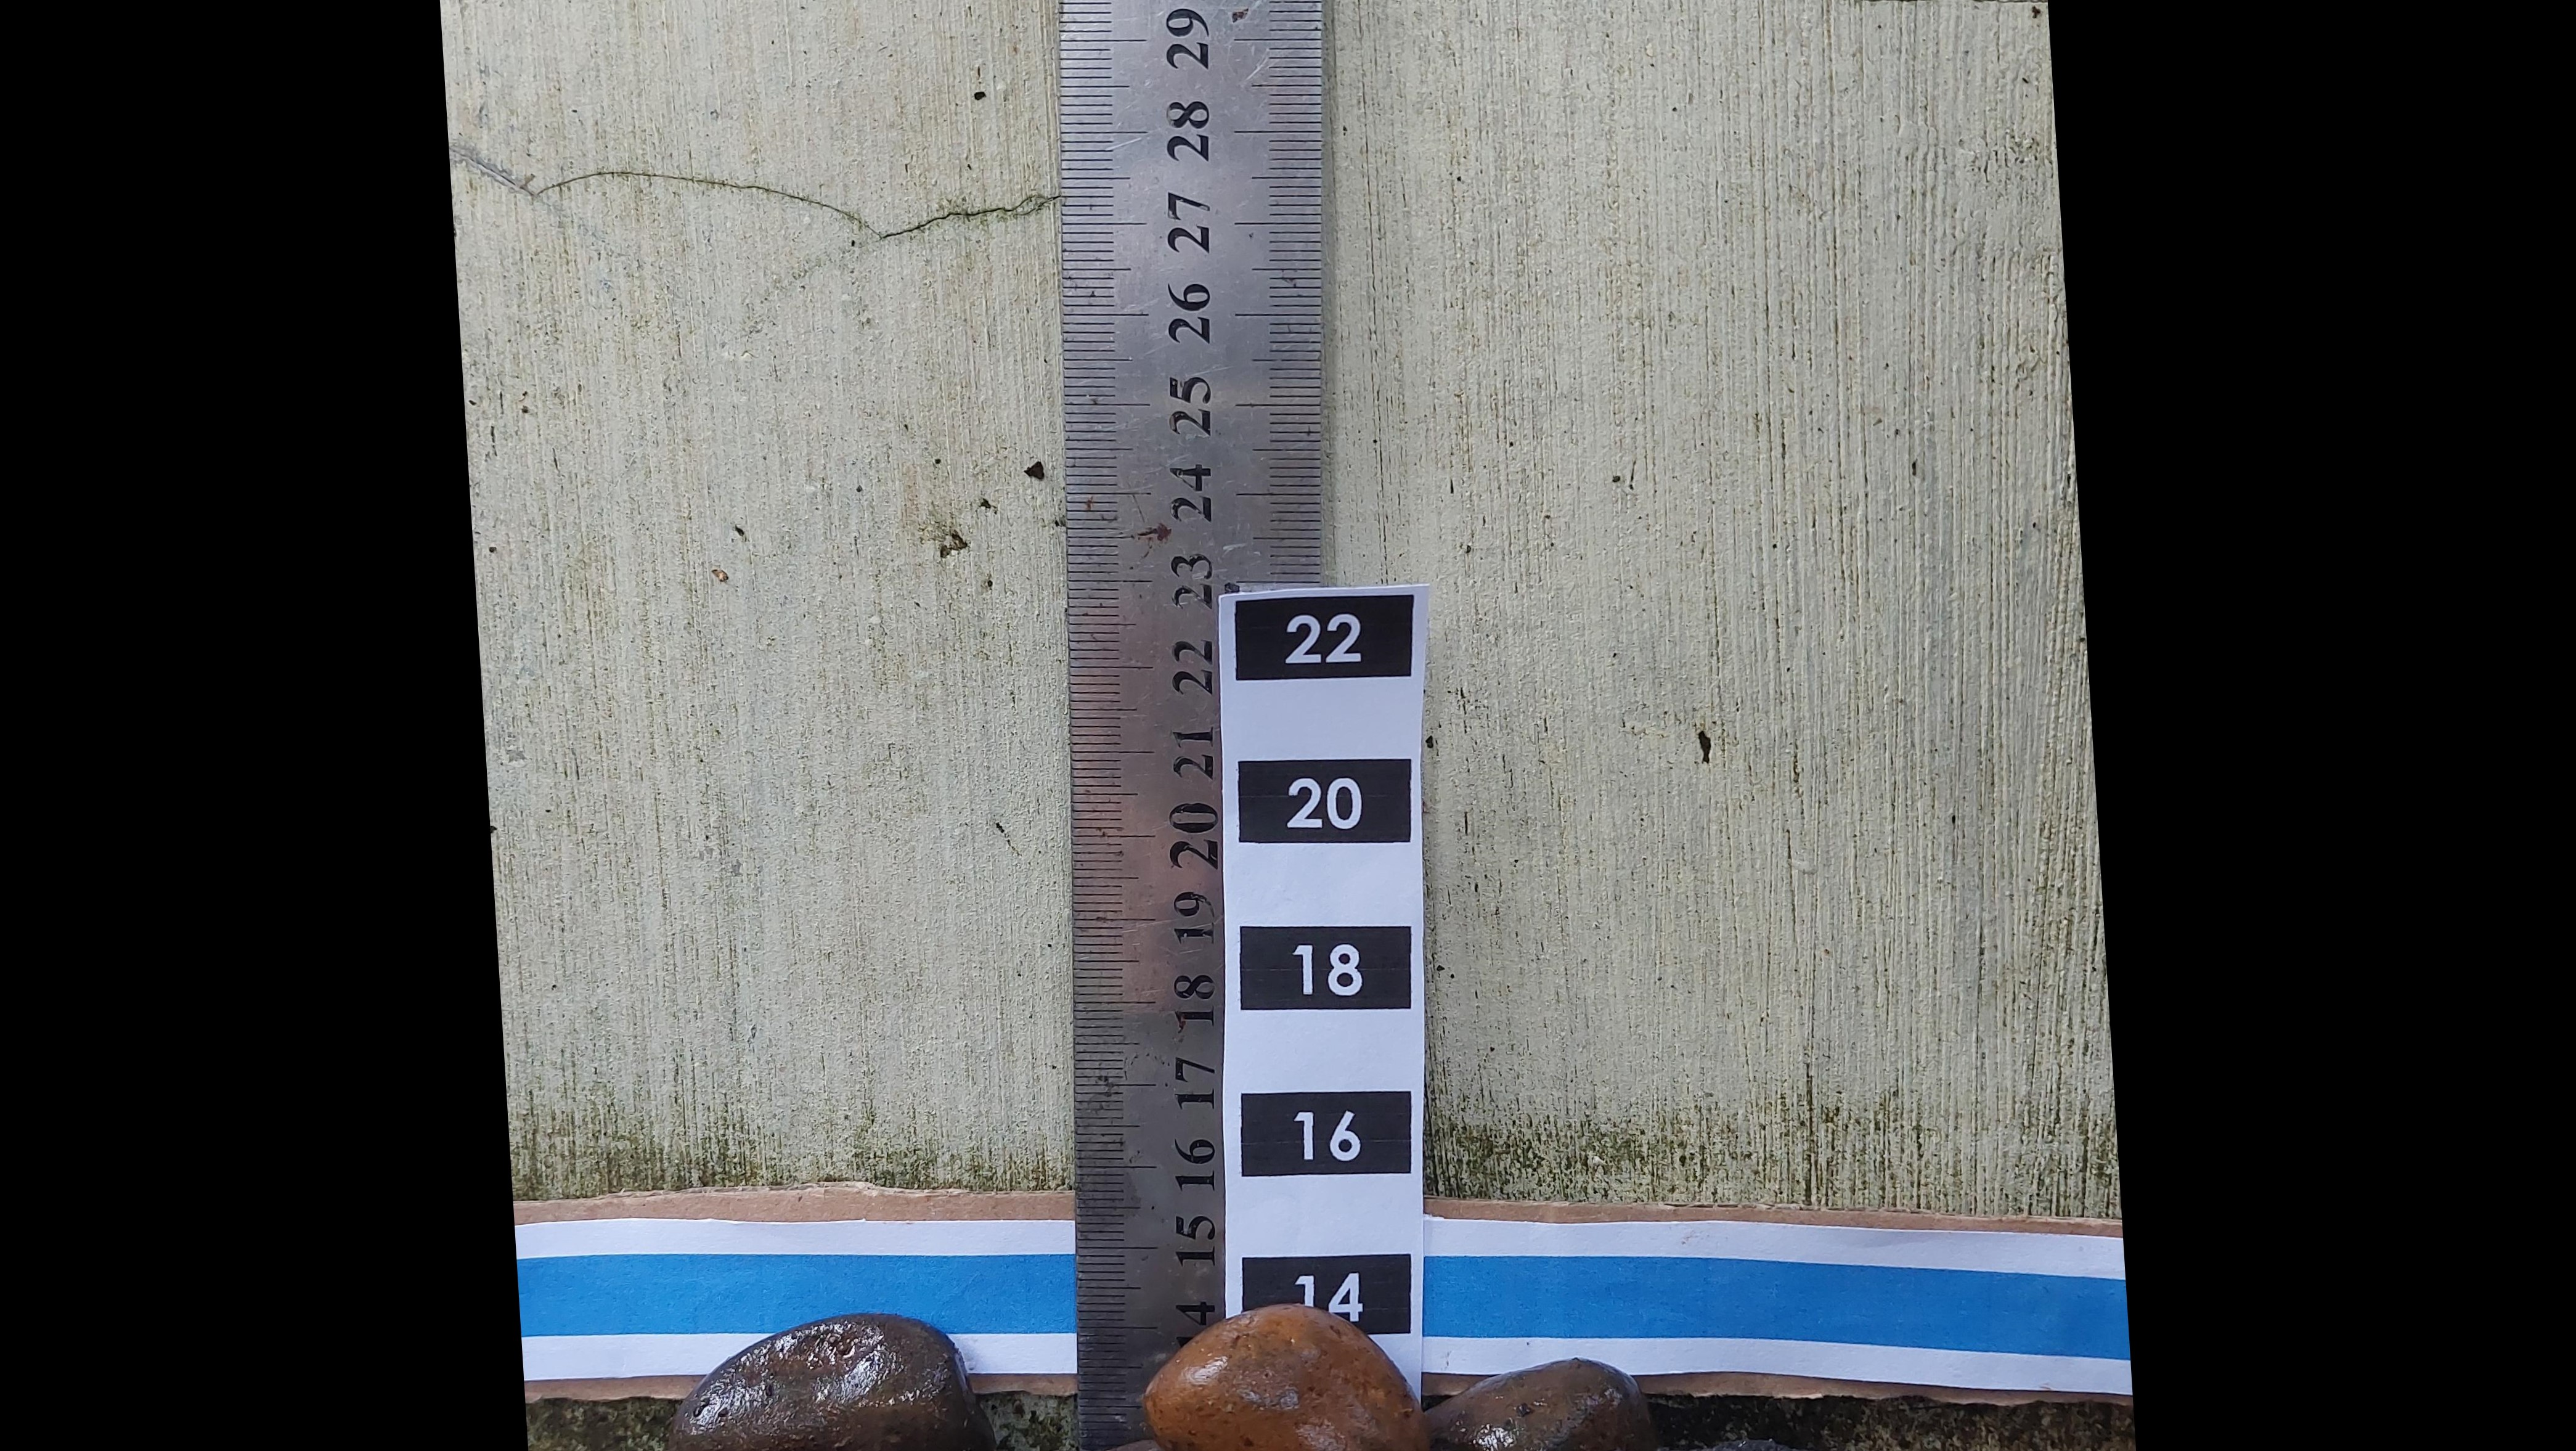kotak_2x1: (1238, 924, 1415, 1016), (1235, 757, 1410, 844), (1240, 1092, 1412, 1178), (1233, 596, 1408, 681)
